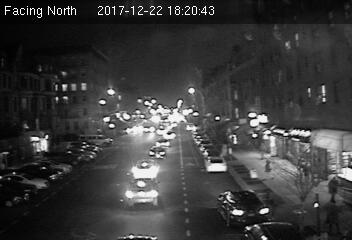car: (217, 191, 269, 227), (124, 176, 161, 208), (130, 158, 161, 178), (205, 155, 226, 173), (148, 146, 166, 158), (154, 138, 171, 147)
